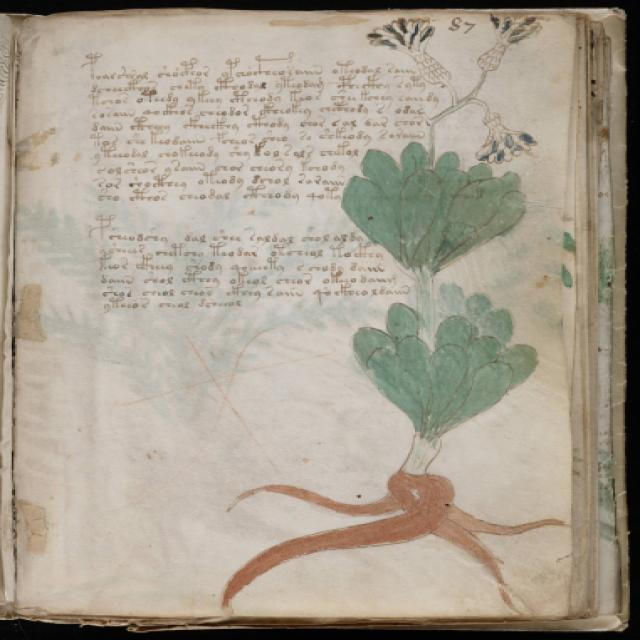plant: (211, 11, 572, 611)
